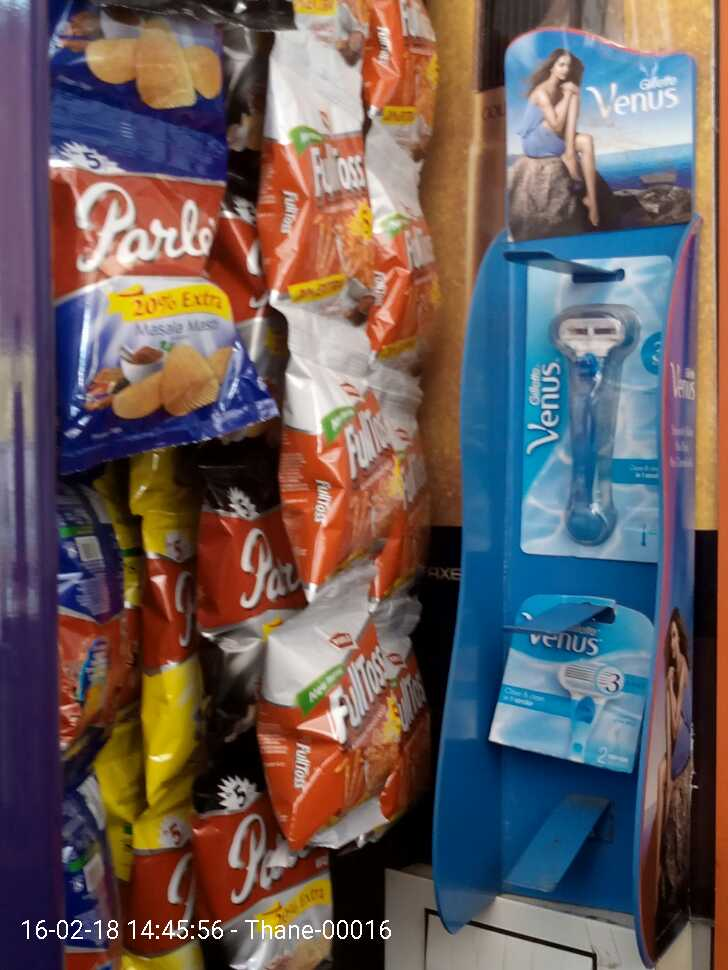beauty: (527, 256, 665, 562), (486, 600, 660, 771)
